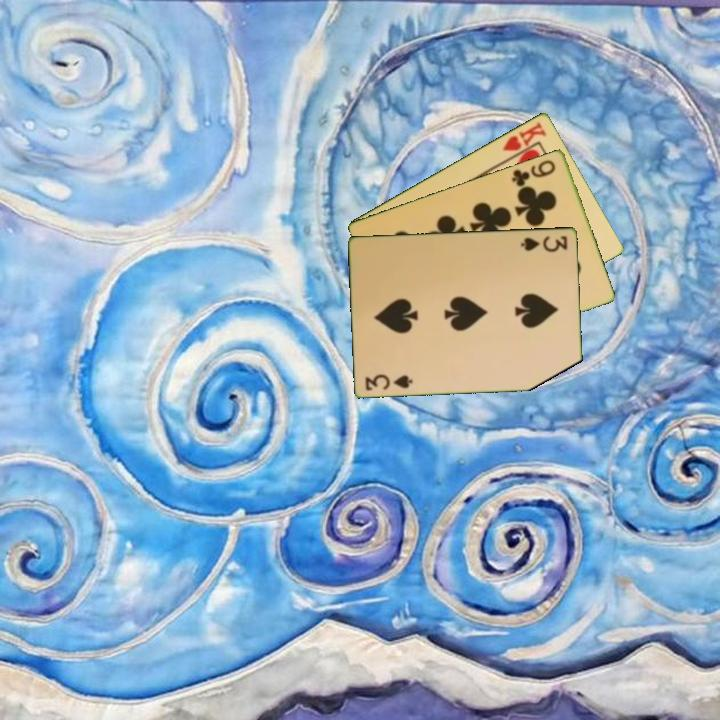3s: (362, 370, 415, 393), (518, 232, 571, 254)
9c: (508, 156, 558, 189)
Kh: (499, 117, 549, 162)
